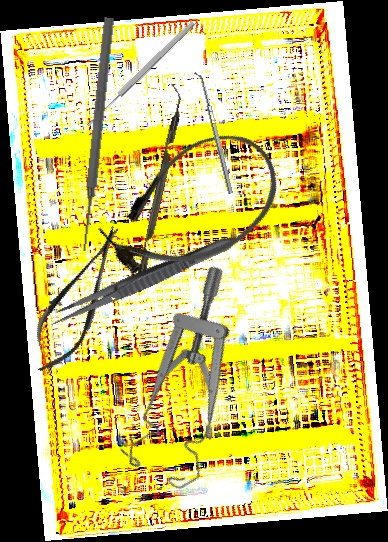Cannula: (85, 112, 299, 301)
Chopper: (123, 83, 189, 293)
Dressing Forceps: (45, 229, 242, 332)
Micro Scissor: (18, 216, 140, 383)
Pusher: (76, 16, 117, 253)
Spatula Surgical: (192, 70, 234, 196)
Speculum: (82, 261, 309, 504)
Surgical Spoon: (84, 20, 197, 128)
